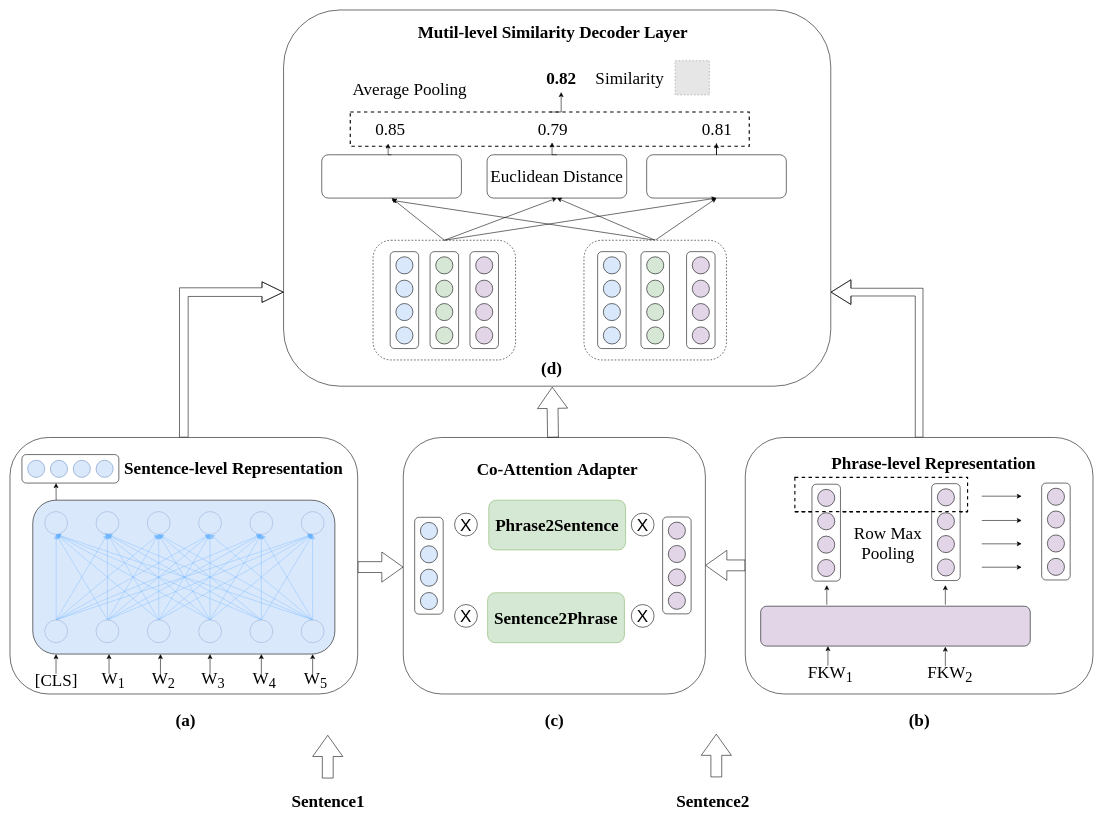
The diagram is 1103 pixels wide and 825 high, and some of its shapes have lost their labels. Grey dashed boxes stand in for pictures. Here are the shapes that lost their labels. From the top down, the box of each, then its label:
(321, 154, 461, 198): Cosine Similarity
(646, 154, 786, 198): Manhattan Distance
(32, 500, 335, 654): BERT
(760, 606, 1030, 646): Self-Attention
